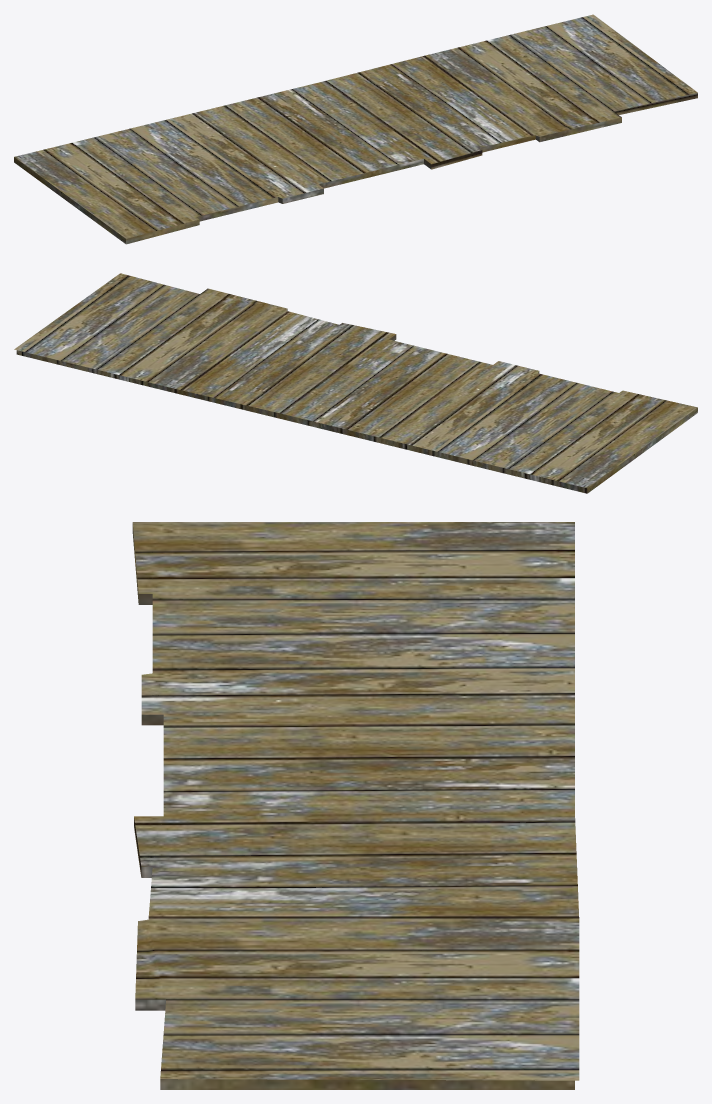
File: porch_outside_planks.fbx
The picture shows the model from 3 angles, top to bottom: view 1: azimuth 30°, elevation 25°; view 2: azimuth 150°, elevation 25°; view 3: azimuth 270°, elevation 25°; orthographic projection. The views are drawn at different scales.
Visible parts, largest first — view 1: polySurface237; view 2: polySurface237; view 3: polySurface237.
Boxes of the visible parts, x1,y1,x2,y2 form: polySurface237: (14,14,697,244); polySurface237: (14,273,697,493); polySurface237: (132,522,579,1089).
Bounding box in the file's own units: 596 × 5.4 × 201.
